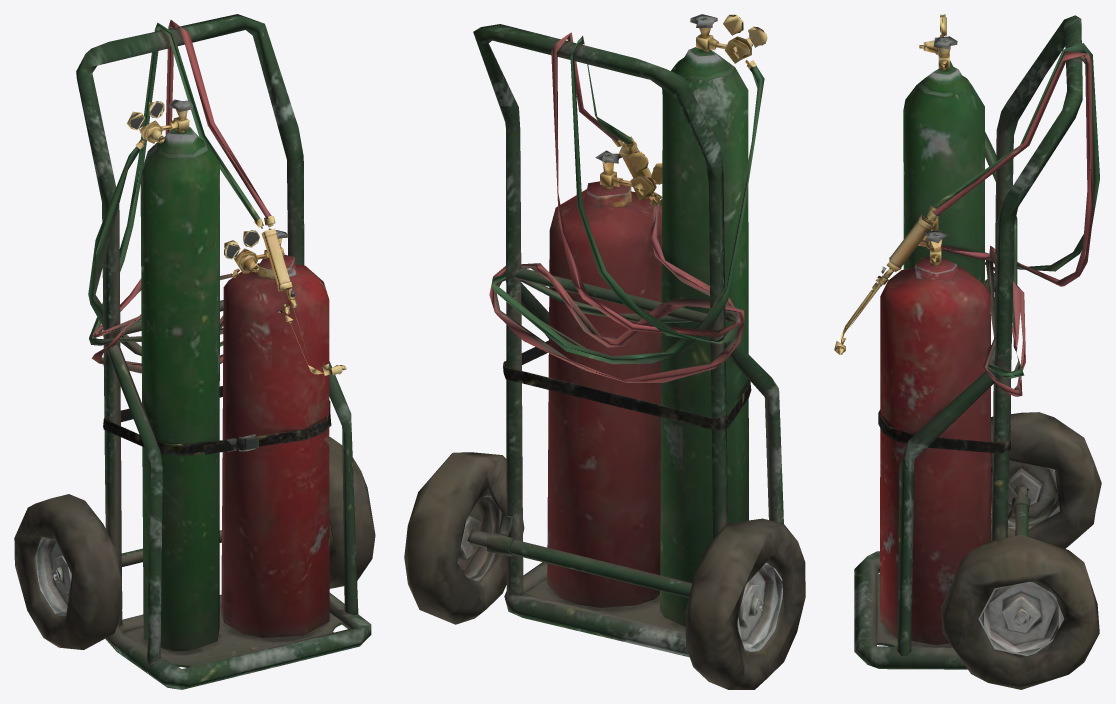
File: scene-welding.glb
3 renders of one model, left to right at view 1: azimuth 30°, elevation 25°; view 2: azimuth 150°, elevation 25°; view 3: azimuth 270°, elevation 25°, orthographic. The views are drawn at different scales.
Parts seen in each view (by area): view 1: portable_welding_cart; view 2: portable_welding_cart; view 3: portable_welding_cart.
Part boxes in pixels (x1=…): portable_welding_cart: x1=14, y1=14, x2=375, y2=689; portable_welding_cart: x1=404, y1=14, x2=805, y2=689; portable_welding_cart: x1=834, y1=14, x2=1101, y2=689.
Bounding box in the file's own units: 0.8366 × 1.56 × 0.655.
Materials: 2 (2 with a texture image).
